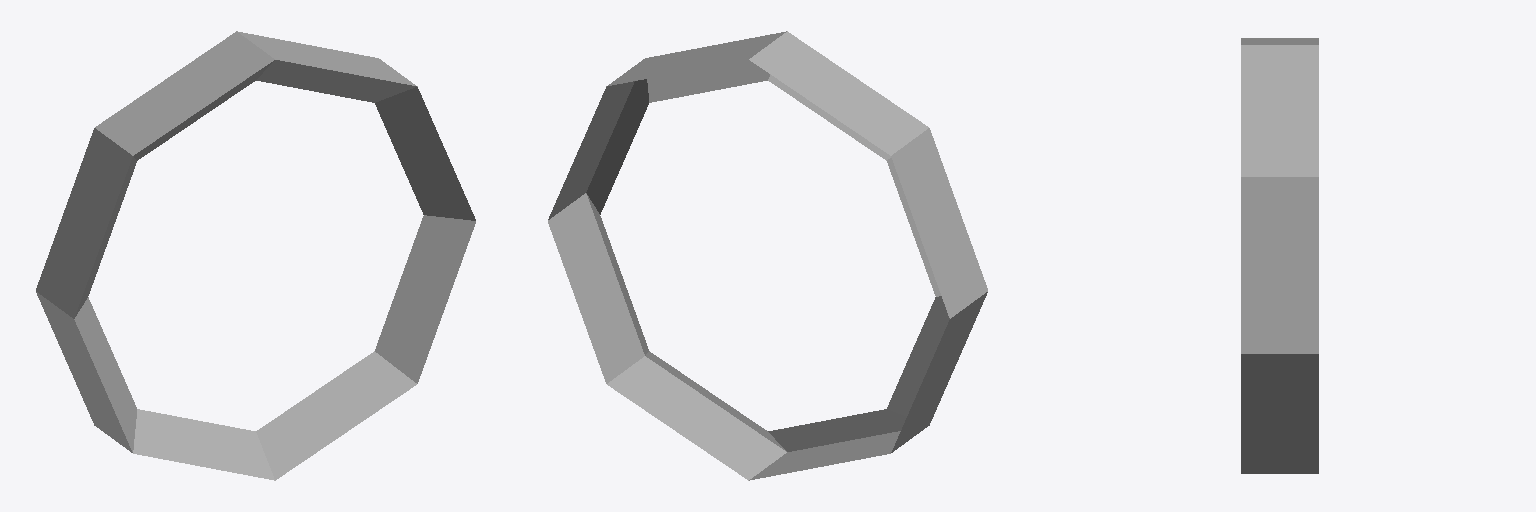
File: ring.obj
3 renders of one model, left to right at view 1: azimuth 30°, elevation 25°; view 2: azimuth 150°, elevation 25°; view 3: azimuth 270°, elevation 25°, orthographic.
Parts seen in each view (by area): view 1: SimpleRing; view 2: SimpleRing; view 3: SimpleRing.
Boxes of the visible parts, box(x1,y1,x2,y2) form: SimpleRing: box(36, 31, 475, 480); SimpleRing: box(548, 31, 987, 480); SimpleRing: box(1241, 38, 1318, 473).
Bounding box in the file's own units: 2.4 × 2.4 × 0.4.